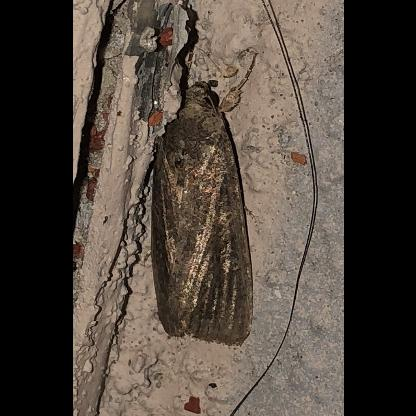Fall Armyworm Moth: (140, 44, 262, 352)
